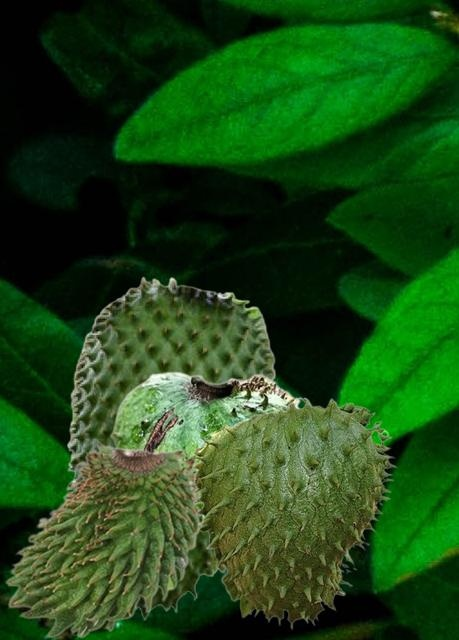guyabano: (66, 276, 275, 619), (192, 396, 396, 629), (4, 438, 201, 637), (110, 371, 301, 519)
